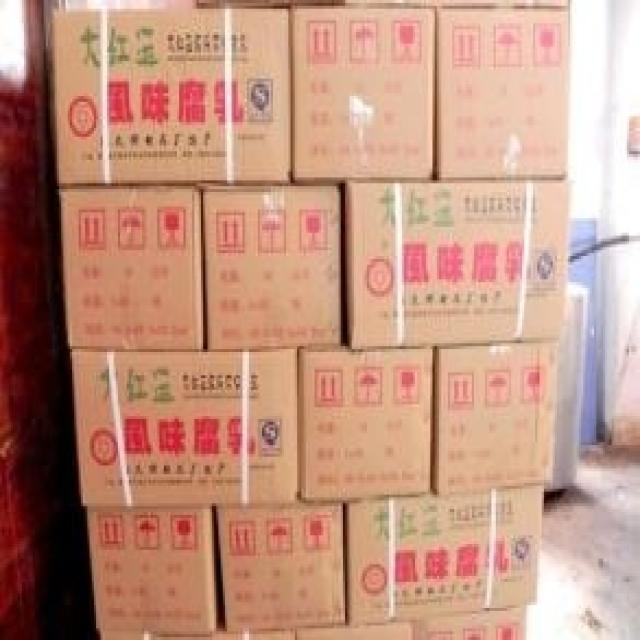box: (52, 9, 293, 190), (341, 177, 569, 348), (70, 348, 296, 510), (347, 487, 543, 627), (288, 7, 436, 184), (59, 188, 209, 351), (202, 184, 343, 351), (435, 7, 571, 180), (297, 348, 430, 506), (429, 344, 557, 493), (214, 503, 347, 631), (86, 508, 214, 633), (413, 607, 528, 637), (295, 624, 411, 637)
